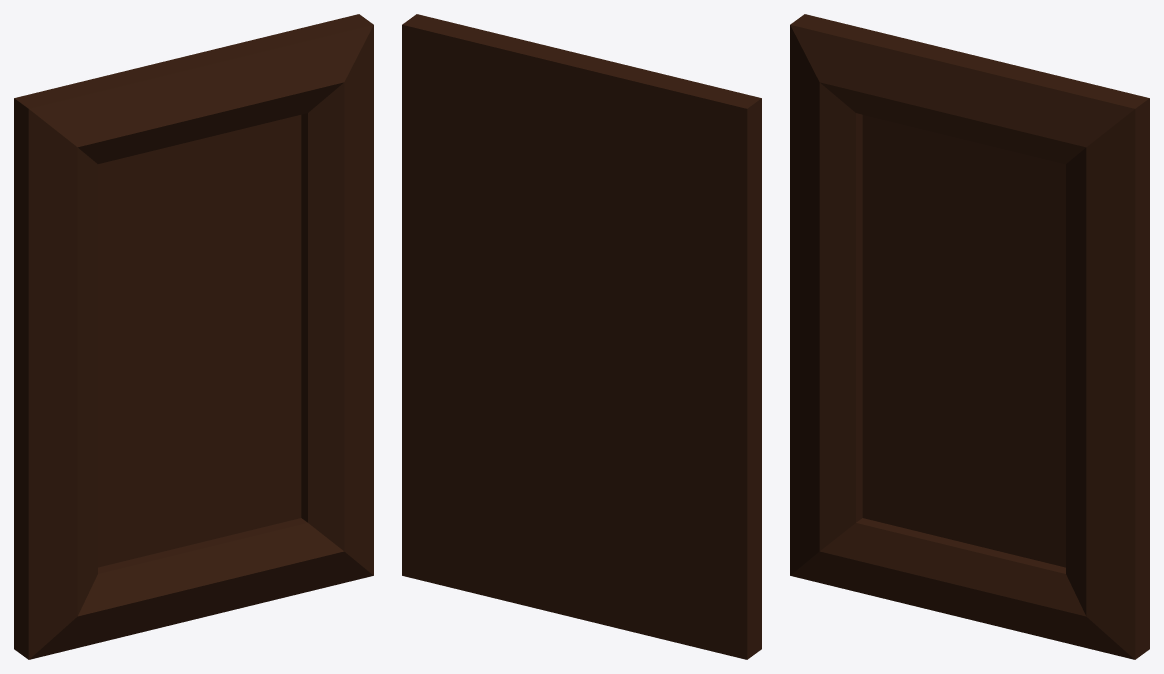
Rendered from F_bossromm_photo_frame_big.fbx.
3 views of the same model, side by side, from view 1: azimuth 30°, elevation 25°; view 2: azimuth 150°, elevation 25°; view 3: azimuth 330°, elevation 25° (orthographic).
Visible parts, largest first — view 1: photo_frame_big; view 2: photo_frame_big; view 3: photo_frame_big.
Part boxes in pixels (x1,y1,x2,y2): photo_frame_big: (14,14,373,659); photo_frame_big: (402,14,761,659); photo_frame_big: (790,14,1149,659).
Size of the model in its own units: 72.48 by 111 by 8.85.
